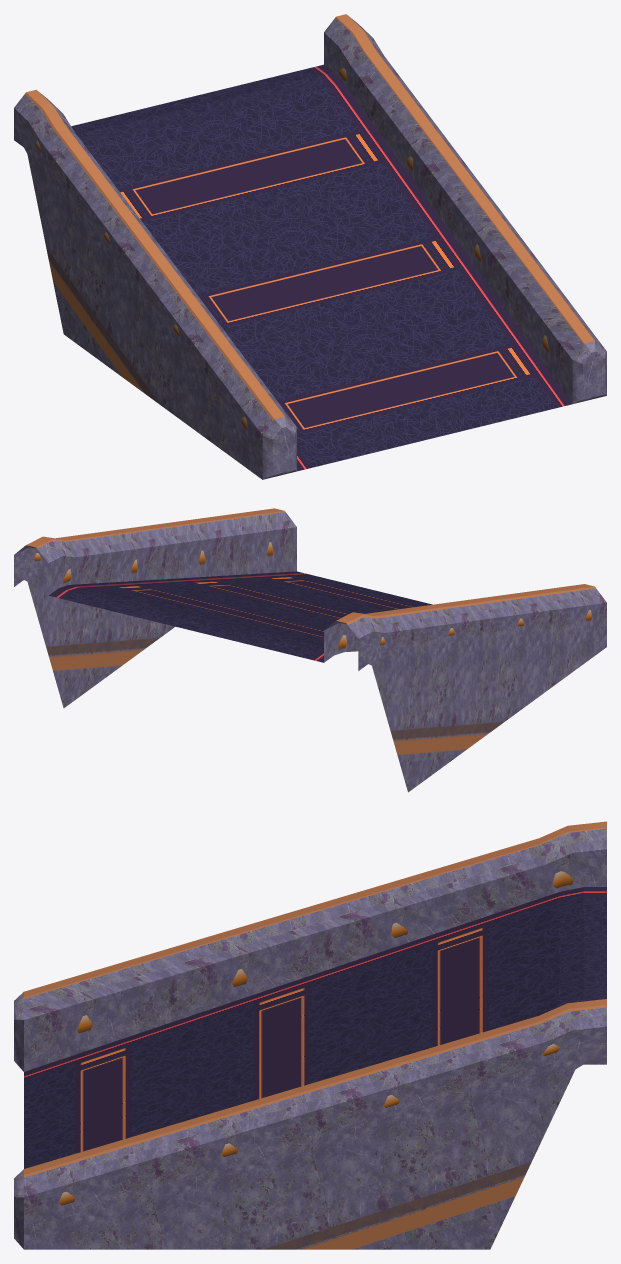
Rendered from tomb-chaser-2__TempleBaseStaircase_Art.glb.
3 renders of one model, top to bottom at view 1: azimuth 30°, elevation 25°; view 2: azimuth 150°, elevation 25°; view 3: azimuth 270°, elevation 25°, orthographic. The views are drawn at different scales.
Parts seen in each view (by area): view 1: TempleBaseStaircase_Art; view 2: TempleBaseStaircase_Art; view 3: TempleBaseStaircase_Art.
Part boxes in pixels (x1=…): TempleBaseStaircase_Art: x1=14, y1=14, x2=606, y2=479; TempleBaseStaircase_Art: x1=14, y1=508, x2=606, y2=792; TempleBaseStaircase_Art: x1=14, y1=821, x2=606, y2=1249.
Bounding box in the file's own units: 8 × 4.5 × 10.17.
Materials: 2 (2 with a texture image).
